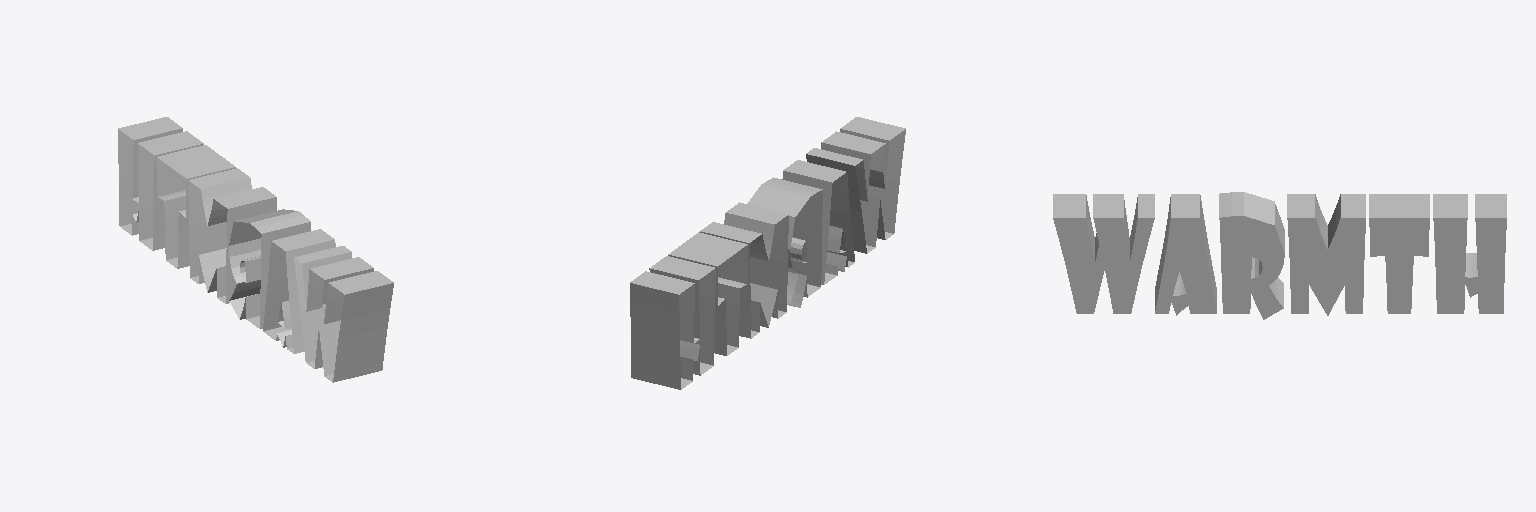
Rendered from typemesh_warmth.obj.
The picture shows the model from 3 angles: view 1: azimuth 30°, elevation 25°; view 2: azimuth 150°, elevation 25°; view 3: azimuth 270°, elevation 25°; orthographic projection.
Parts seen in each view (by area): view 1: typeMesh_warmth group2; view 2: typeMesh_warmth group2; view 3: typeMesh_warmth group2.
Part boxes in pixels (bbox=[...]): typeMesh_warmth group2: bbox=[118, 117, 393, 382]; typeMesh_warmth group2: bbox=[630, 117, 905, 389]; typeMesh_warmth group2: bbox=[1053, 192, 1506, 319].
Size of the model in its own units: 0.0946 by 0.1907 by 0.7523.